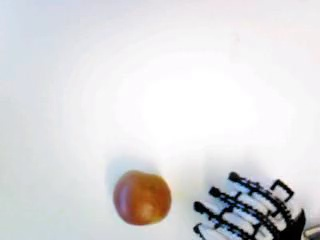apple: (109, 169, 172, 225)
hand: (191, 172, 307, 237)
